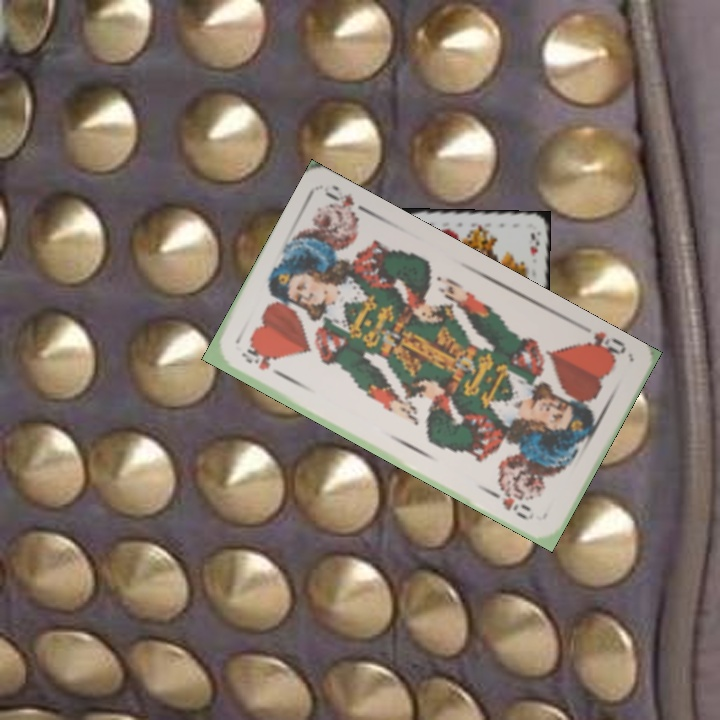HO: (573, 327, 629, 365), (237, 345, 288, 381)
